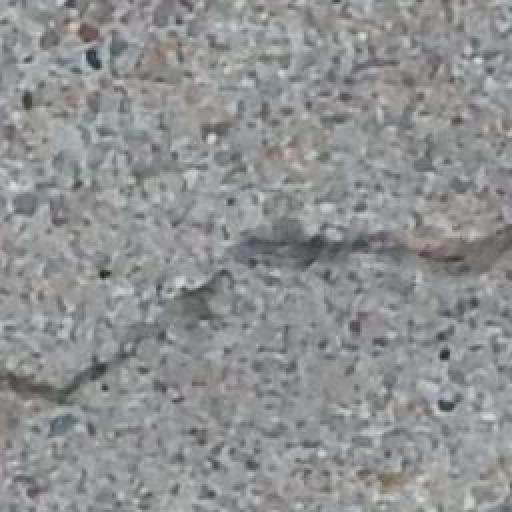spalling: (5, 188, 504, 430)
